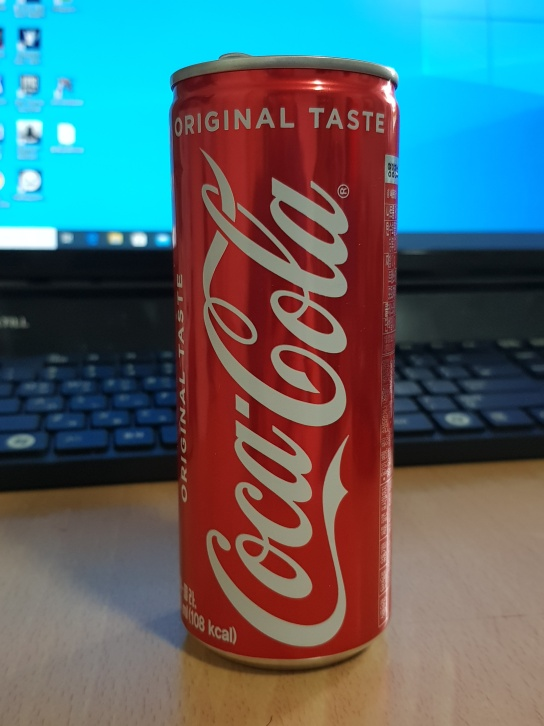Can: (165, 45, 402, 681)
